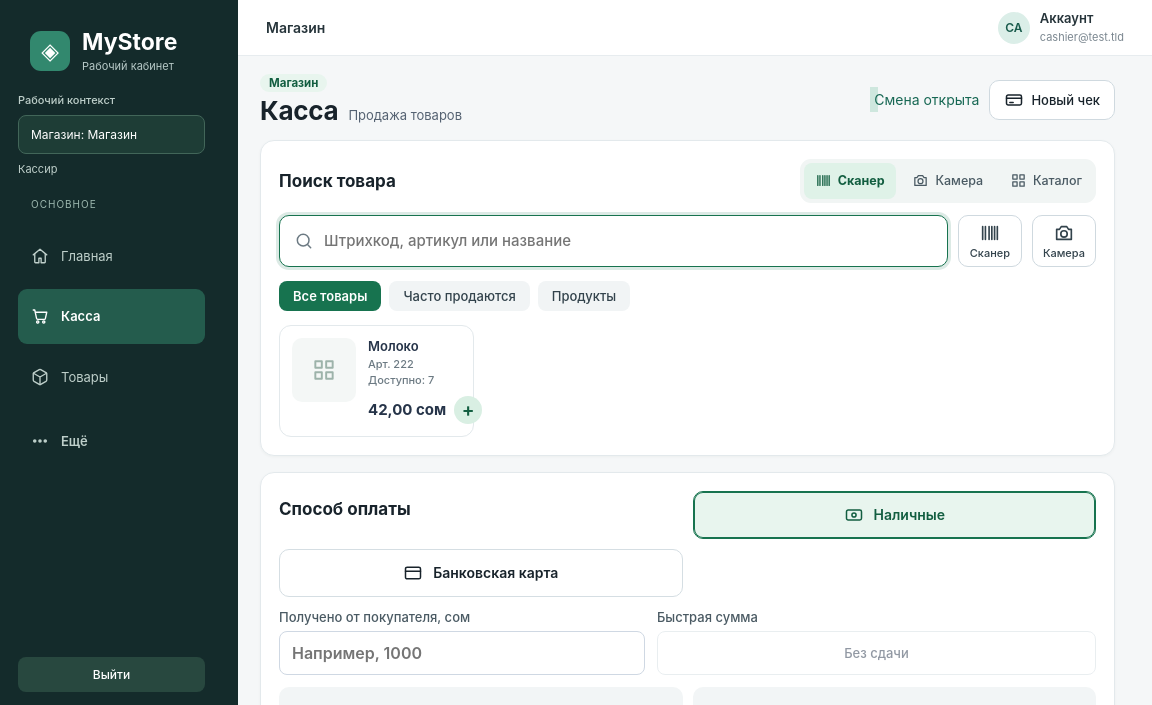
it: stepper changes quantity, clears the cart and shows round cash suggestions
This screenshot has width=1152, height=705.
Expected: the button "Продукты" is shown, left=538, top=281, right=630, bottom=311
Click the button "Молоко Арт. 222 Доступно: 7 42,00 сом +" at [377, 381], box left=279, top=325, right=474, bottom=437
(page scrolled)
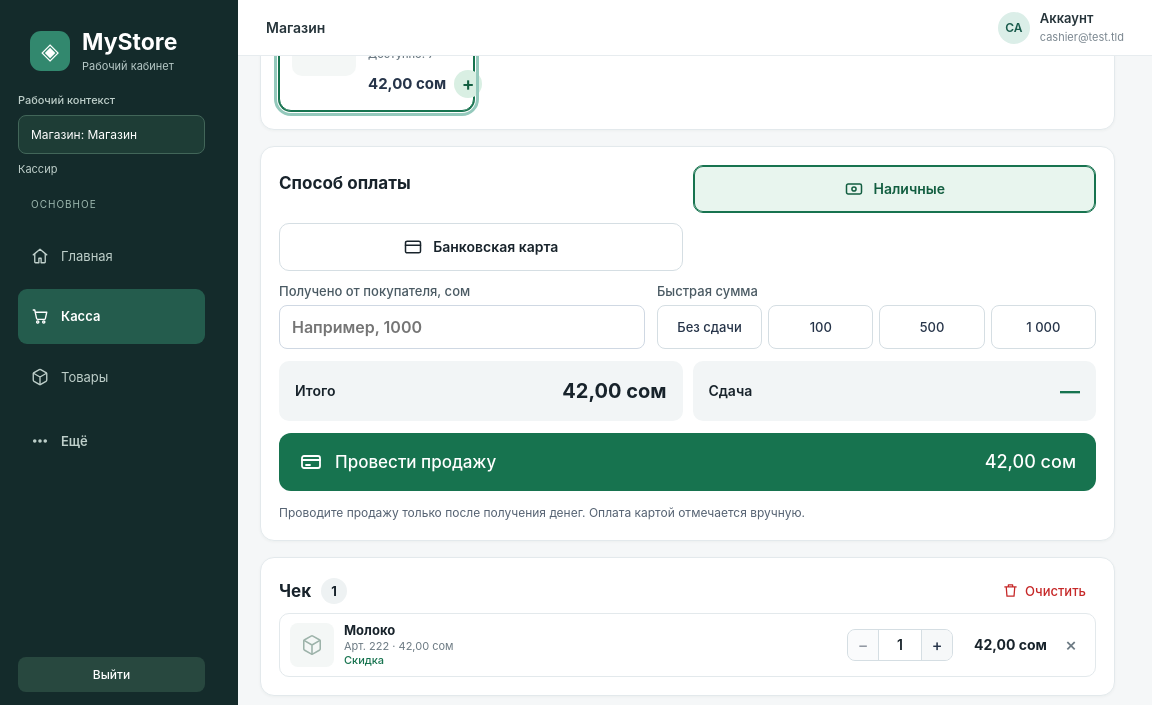
Expected: the number field named "Количество Молоко" holds "1", left=878, top=630, right=922, bottom=660
Click the button named "Увеличить Молоко" at [937, 645], box left=922, top=630, right=952, bottom=660
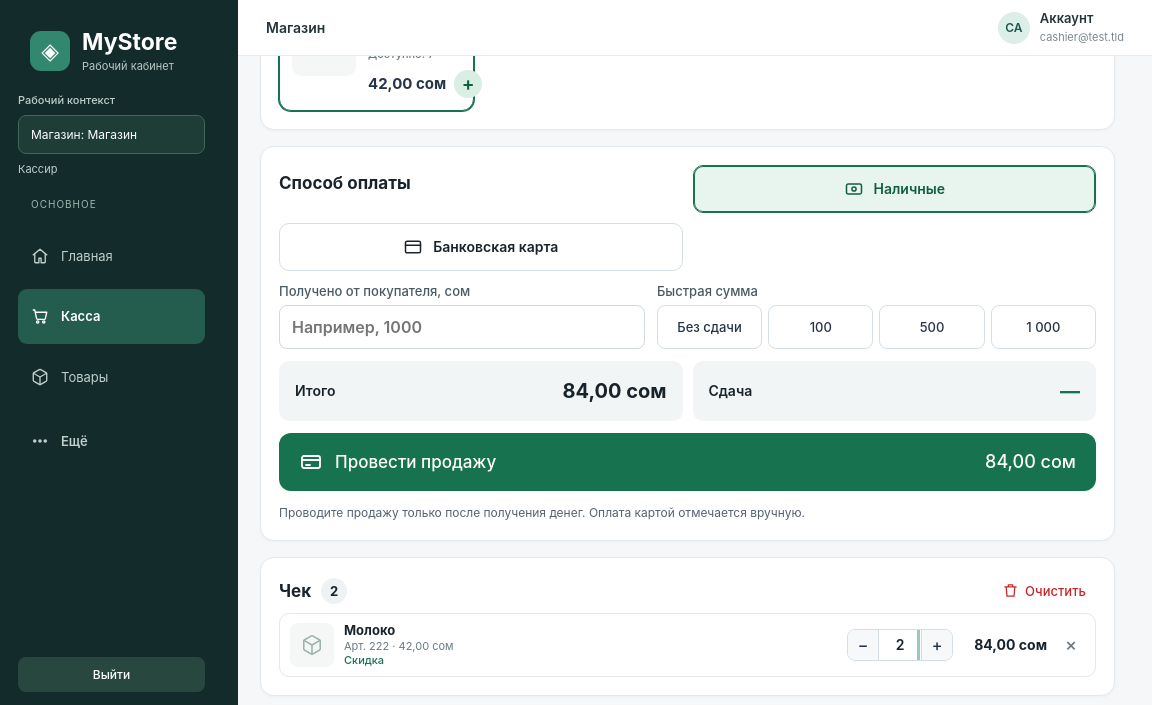
Expected: the button "100" is shown, left=768, top=305, right=874, bottom=349
Expected: the button "1 000" is shown, left=991, top=305, right=1096, bottom=349
Expected: the number field named "Количество Молоко" holds "2", left=878, top=630, right=922, bottom=660
Click the button named "Уменьшить Молоко" at [863, 645], box left=848, top=630, right=878, bottom=660
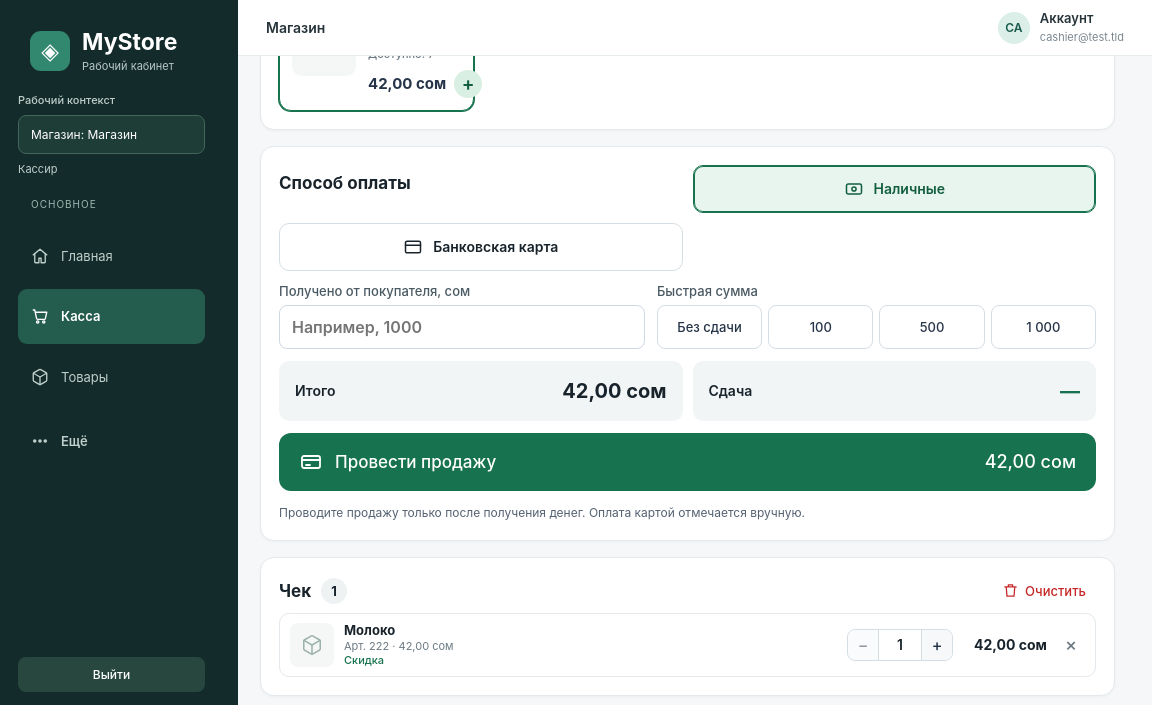
Expected: the number field named "Количество Молоко" holds "1", left=878, top=630, right=922, bottom=660
Click the button "Очистить" at [1044, 591], box left=992, top=576, right=1096, bottom=605
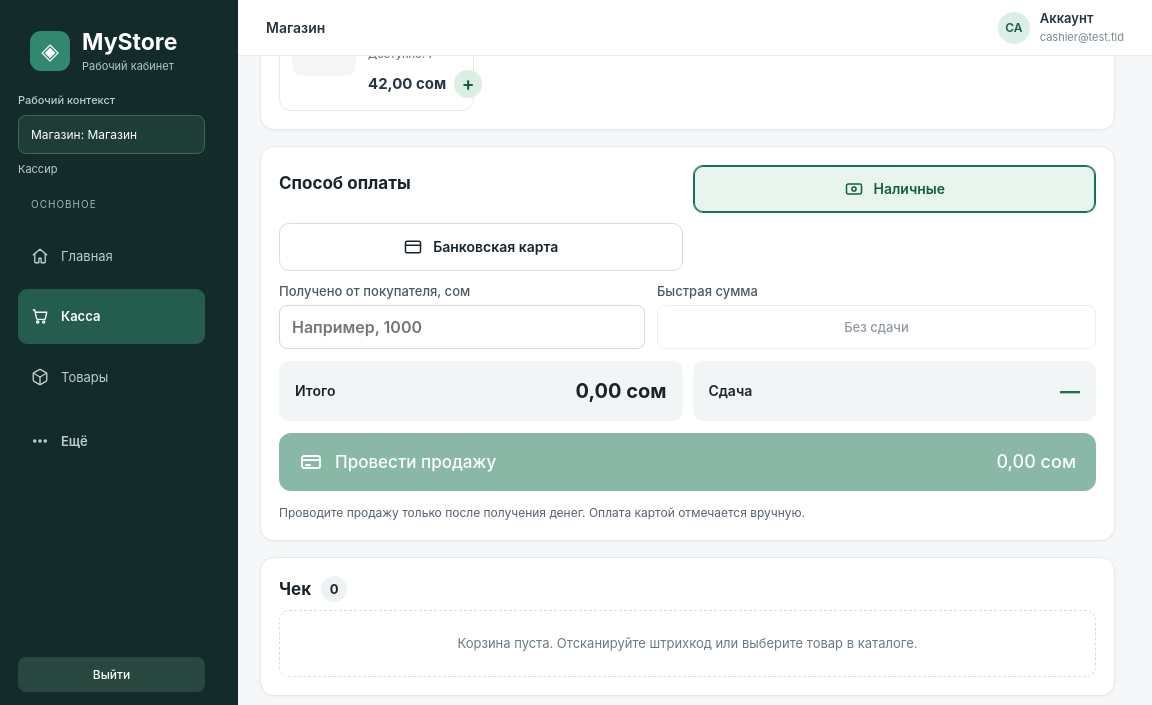
Expected: the text "Корзина пуста" is shown, left=458, top=635, right=918, bottom=651
